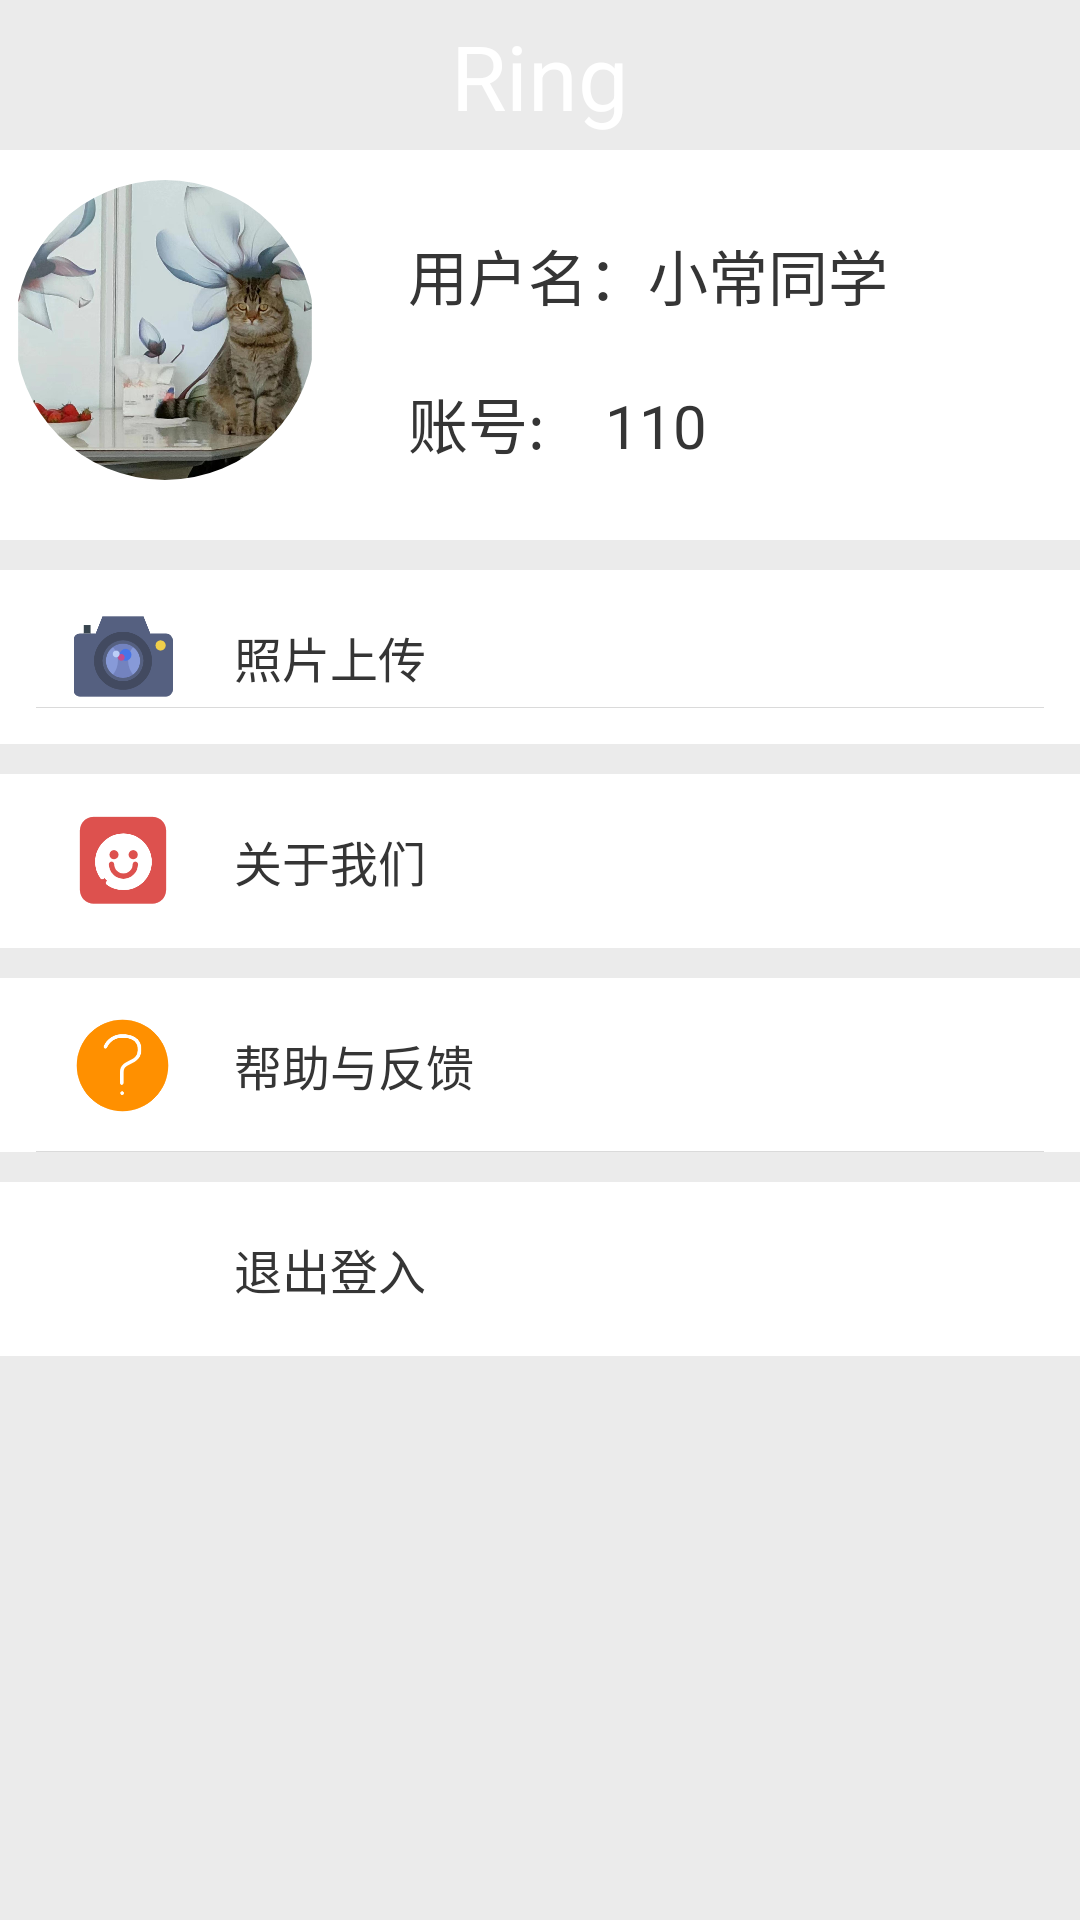

Screen size 1080w x 1920h. Icon name, then its box in pixels as [x1, y1, x2, y2]:
cat: [18, 180, 312, 480]
help: [76, 1019, 169, 1112]
takephoto: [74, 616, 173, 697]
